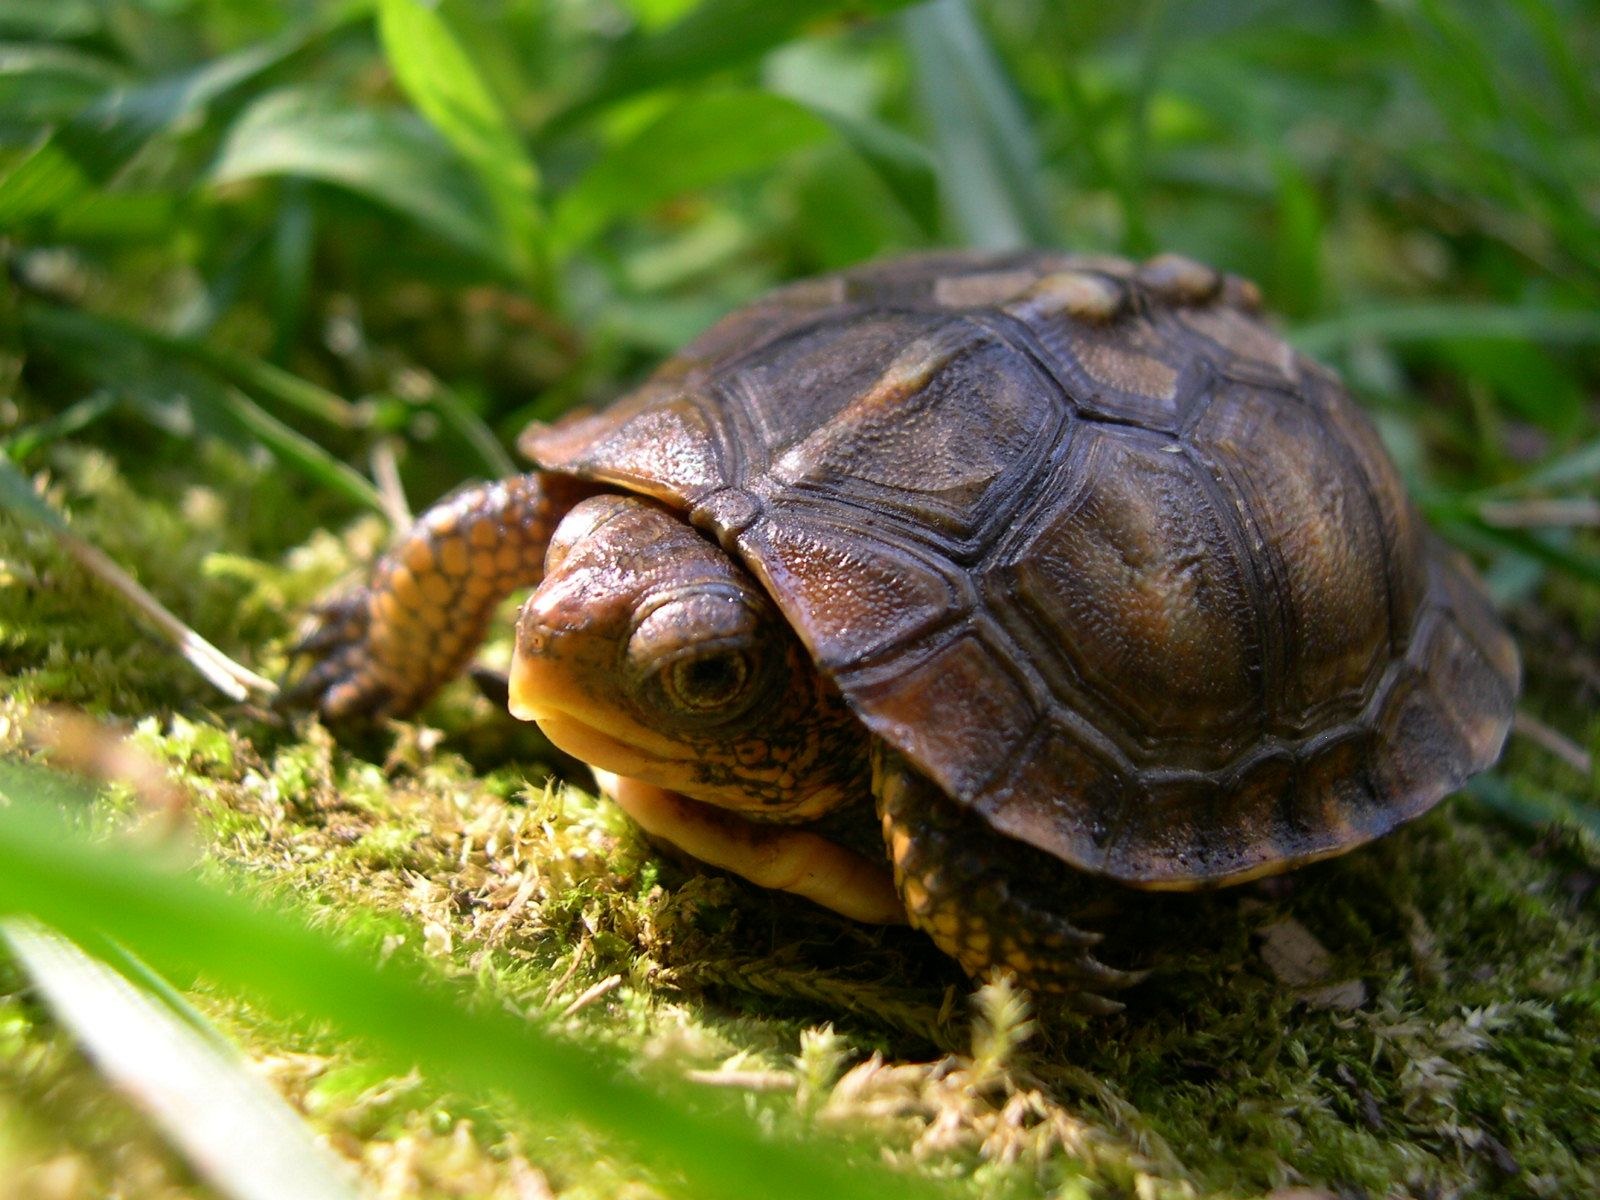eye: (630, 592, 780, 724)
mouth: (510, 695, 745, 799)
